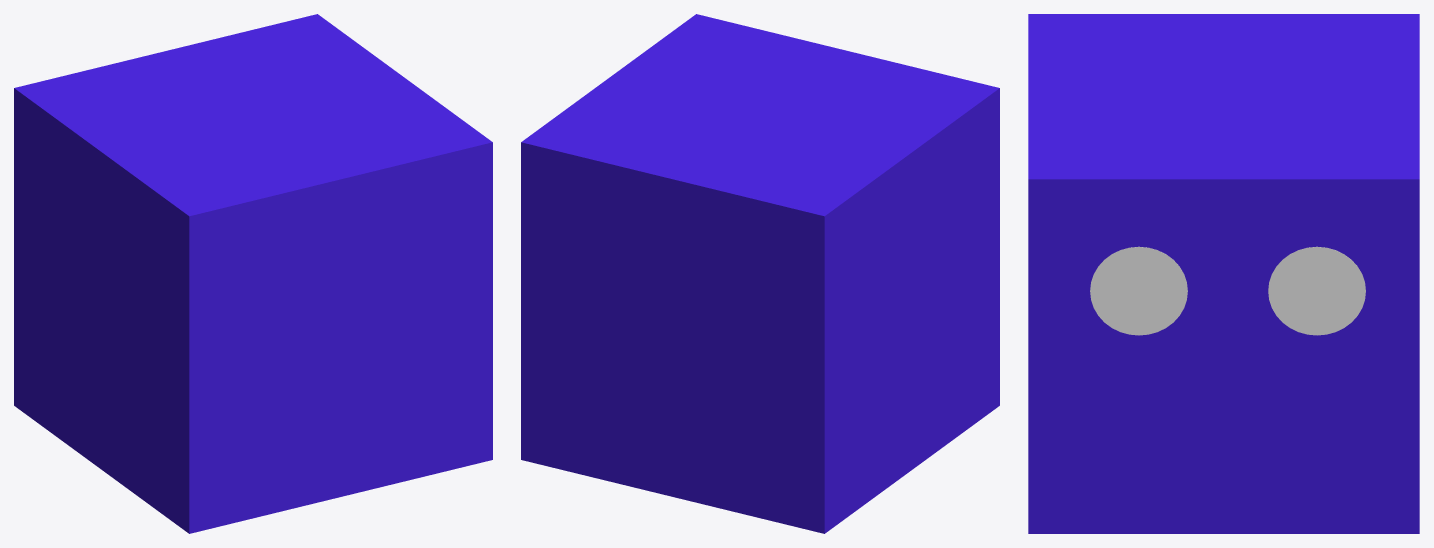
Rendered from flooz.glb.
3 renders of one model, left to right at view 1: azimuth 30°, elevation 25°; view 2: azimuth 150°, elevation 25°; view 3: azimuth 270°, elevation 25°, orthographic. The views are drawn at different scales.
Visible parts, largest first — view 1: Cube; view 2: Cube; view 3: Cube, Cylinder.001, Cylinder.
Boxes of the visible parts, bbox=[...] form: Cube: bbox=[14, 14, 492, 533]; Cube: bbox=[521, 14, 999, 533]; Cube: bbox=[1028, 14, 1419, 533]; Cylinder.001: bbox=[1090, 246, 1187, 335]; Cylinder: bbox=[1268, 246, 1365, 335].
Bounding box in the file's own units: 2 × 2 × 2.
